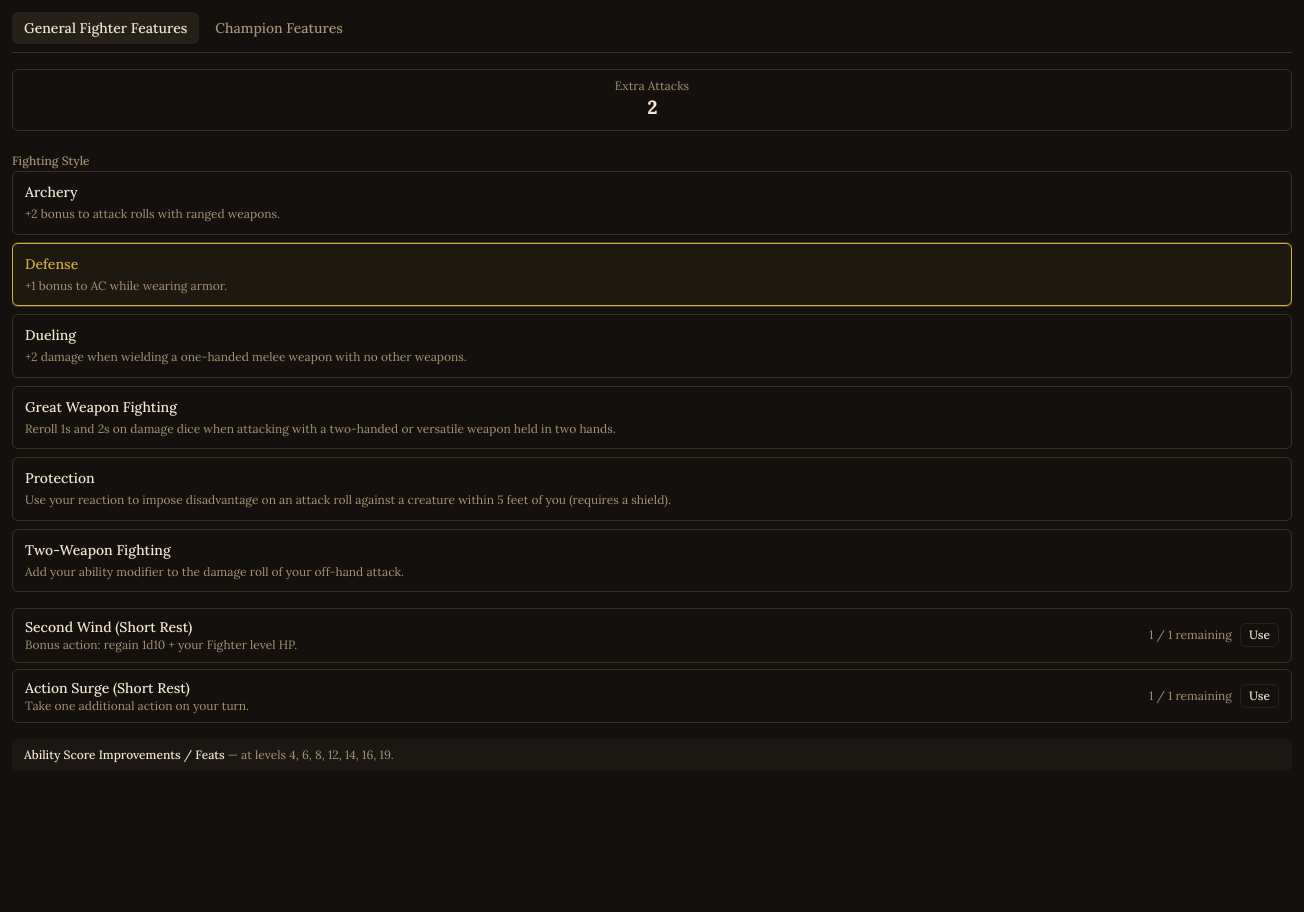
Test: ClassSheet — locked choices + GM Edit (Epic 1) › shows the subclass picker when gmEdit is on
Click the button with test id "features-subtab-subclass". click: (279, 28)
box: 203,12 -> 355,44
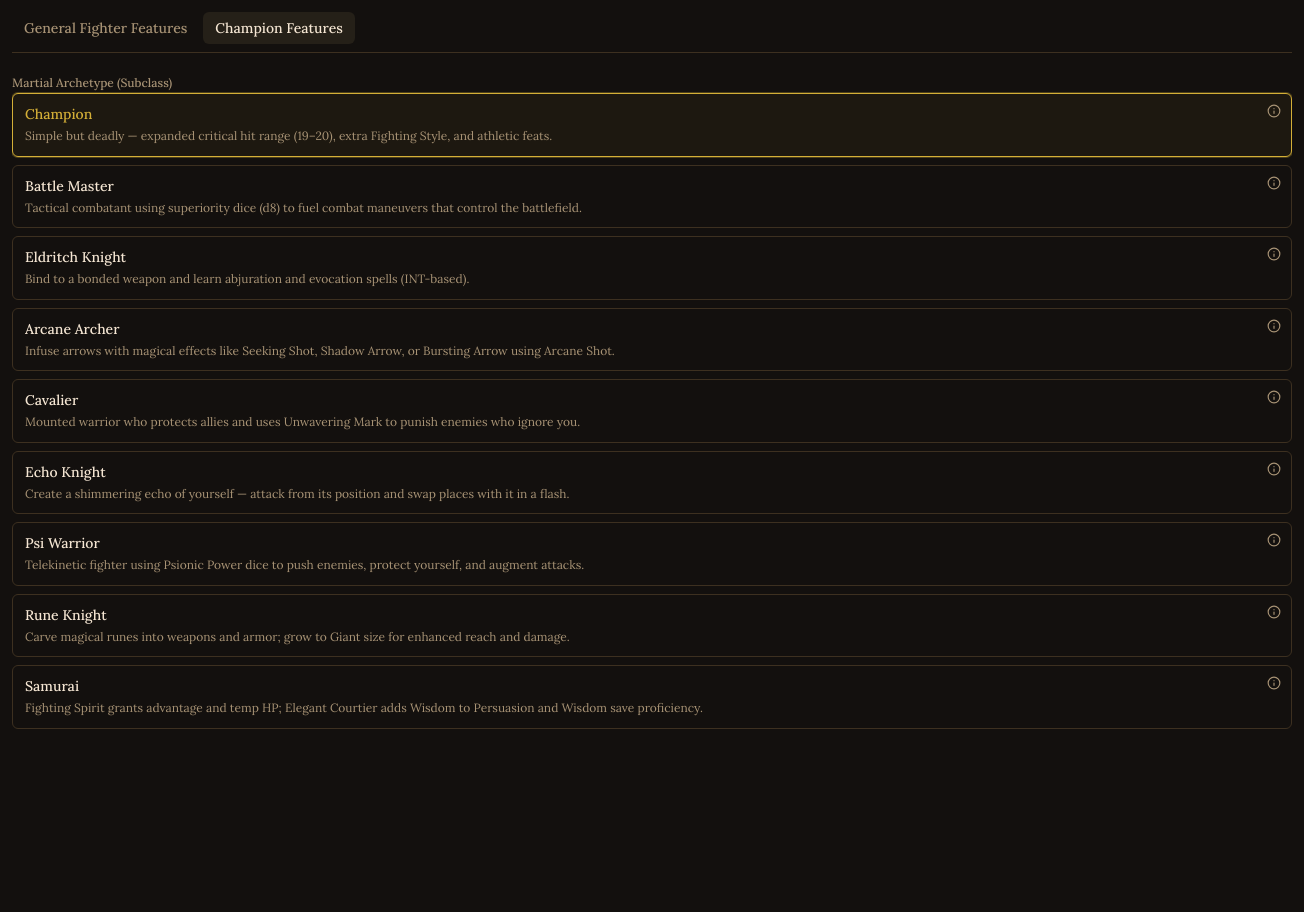
Expected: the button with test id "subclass-info-Champion" is shown, 1267,104 -> 1281,118
